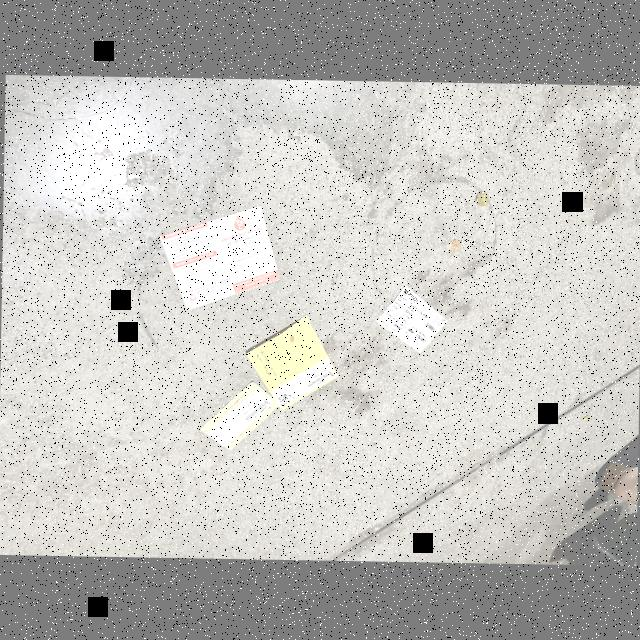scrap_paper: (148, 200, 280, 314), (240, 311, 342, 408), (372, 284, 450, 358), (196, 384, 276, 453)
